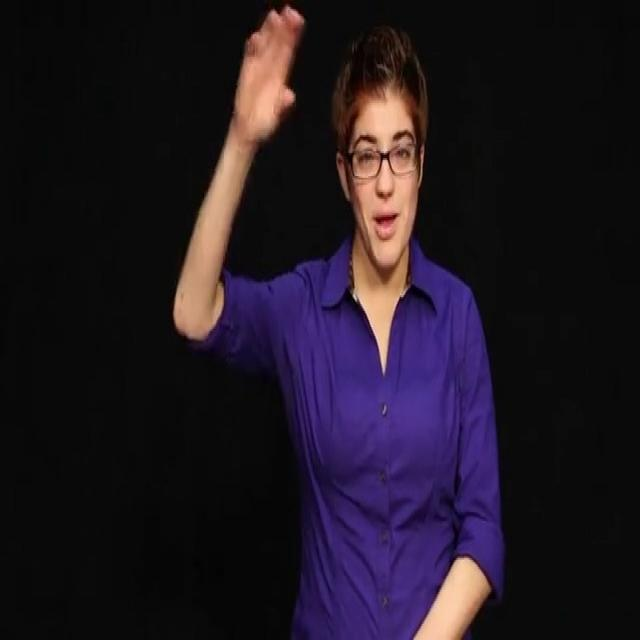hello: (232, 0, 308, 155)
